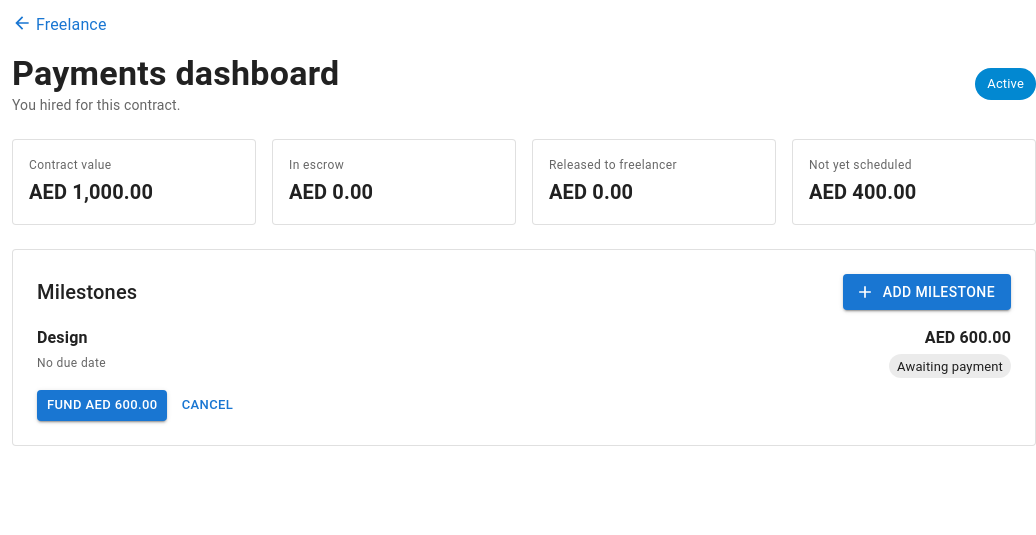
Test: contract screen › tells the client a funding request is not yet a payment
This screenshot has width=1036, height=535.
What coordinates should you click on to do the following:
click the button "Fund AED 600.00"
I would click on:
 (102, 406)
Its box is [37,390,168,421].
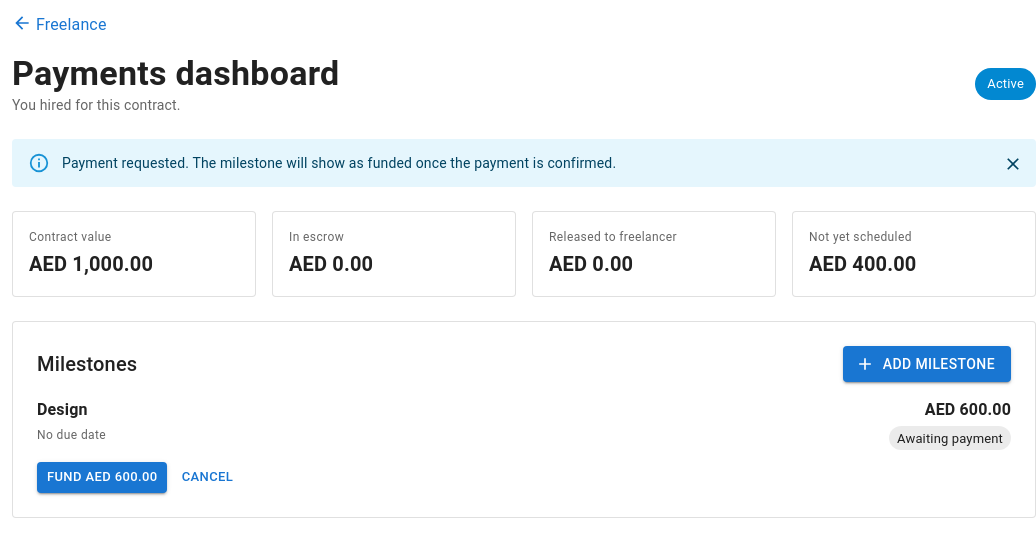
expect the text "will show as funded once the payment is confirmed" is shown: met, box [62,155,616,171]
